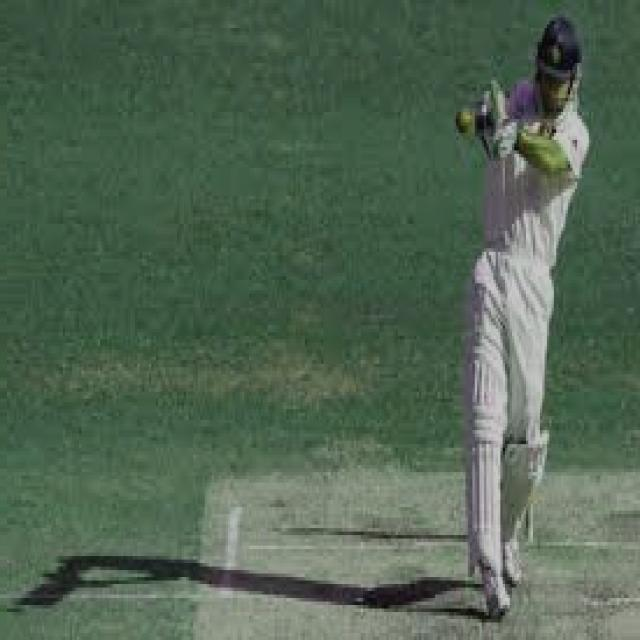toe: (481, 78, 516, 118)
